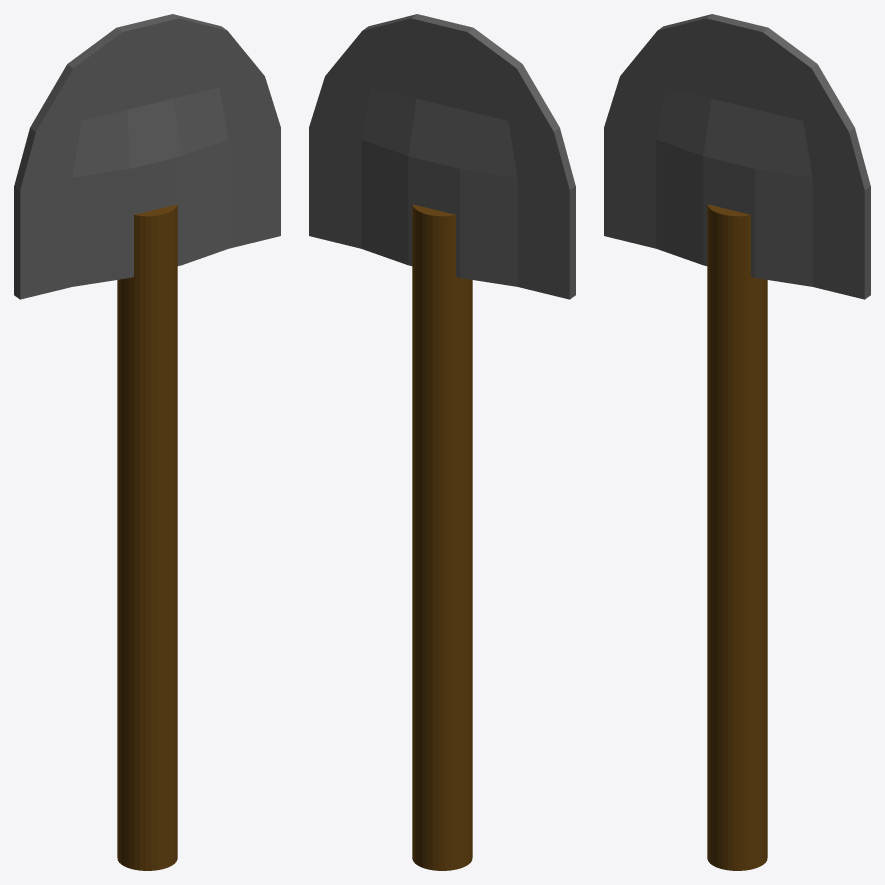
The model's file is Shovel.fbx.
The picture shows the model from 3 angles, left to right: view 1: azimuth 30°, elevation 25°; view 2: azimuth 150°, elevation 25°; view 3: azimuth 330°, elevation 25°; orthographic projection.
Parts seen in each view (by area): view 1: Cube, Cylinder; view 2: Cube, Cylinder; view 3: Cube, Cylinder.
Part boxes in pixels (x1,y1,x2,y2): Cube: (14, 14, 280, 299); Cylinder: (117, 204, 177, 870); Cube: (309, 14, 575, 299); Cylinder: (412, 204, 472, 870); Cube: (604, 14, 870, 299); Cylinder: (707, 204, 767, 870).
Size of the model in its own units: 1000 by 3062 by 200.
